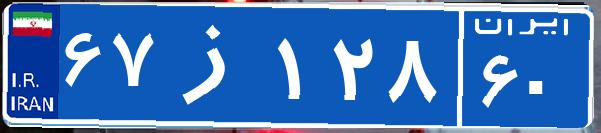0: (525, 38, 570, 115)
1: (273, 28, 330, 110)
2: (330, 28, 385, 110)
6: (57, 26, 110, 107), (475, 38, 525, 113)
7: (110, 28, 158, 105)
8: (385, 28, 445, 110)
ز: (158, 15, 273, 115)
